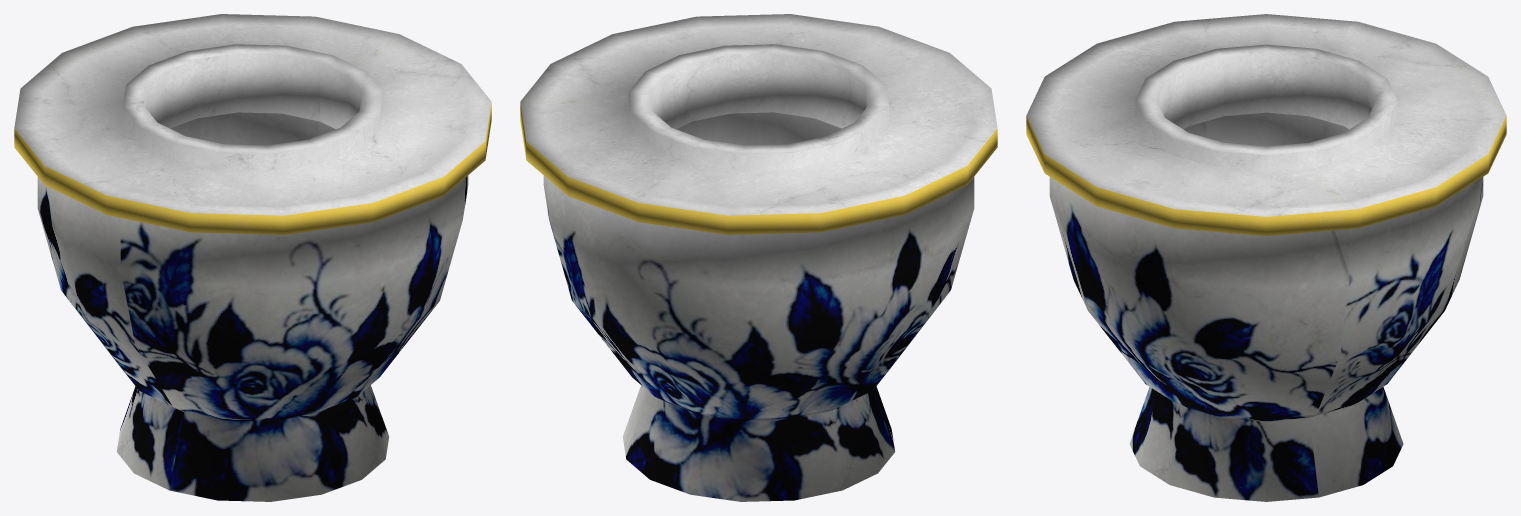
The model's file is sth.fbx.
3 renders of one model, left to right at view 1: azimuth 30°, elevation 25°; view 2: azimuth 150°, elevation 25°; view 3: azimuth 270°, elevation 25°, orthographic.
Parts seen in each view (by area): view 1: Circle.001; view 2: Circle.001; view 3: Circle.001.
Part boxes in pixels (x1=…): Circle.001: x1=14, y1=14, x2=491, y2=501; Circle.001: x1=520, y1=14, x2=997, y2=501; Circle.001: x1=1026, y1=14, x2=1506, y2=501.
Bounding box in the file's own units: 350 × 277 × 350.
